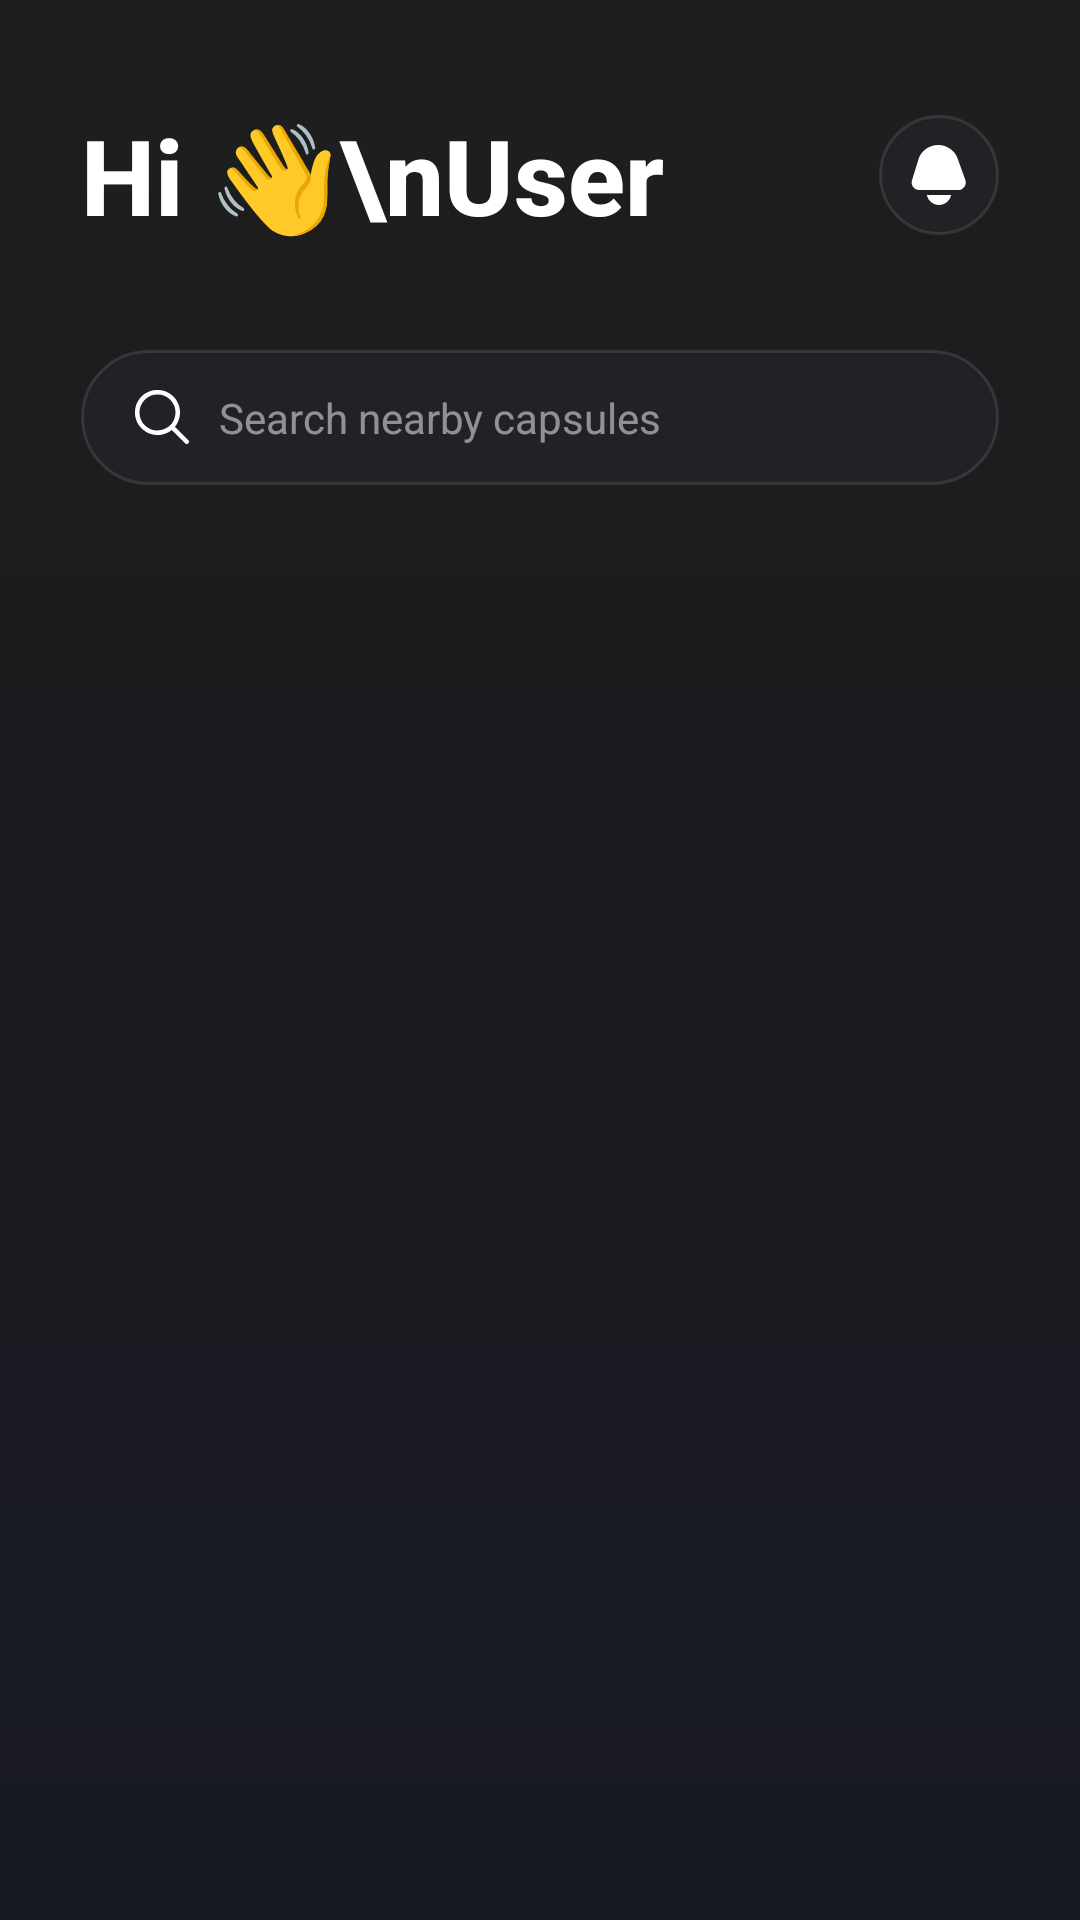

Where icons sit on this 1080px×1920px app screen, as (x1, y1, x2, y2):
bell: (880, 116, 998, 234)
